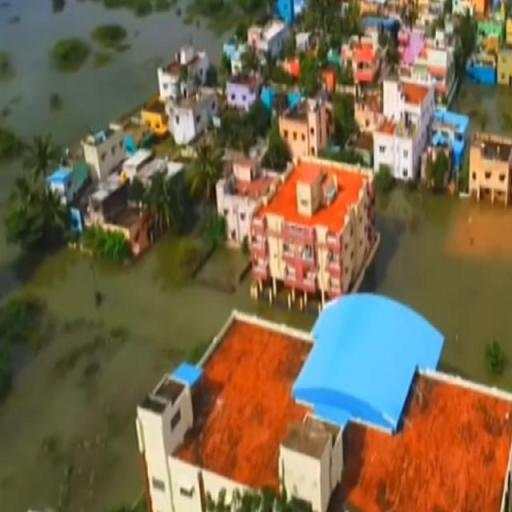flood: (0, 156, 314, 512), (362, 185, 512, 392), (454, 80, 512, 135)
house: (284, 288, 463, 481), (268, 155, 378, 309), (375, 80, 435, 182), (162, 43, 210, 127), (280, 93, 336, 154), (469, 130, 510, 208), (48, 164, 79, 206)
